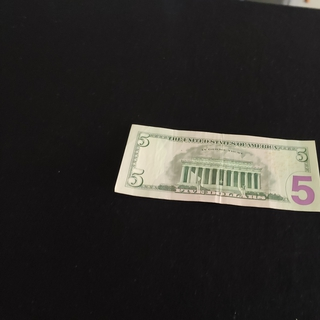5USDBack: (114, 123, 320, 213)
